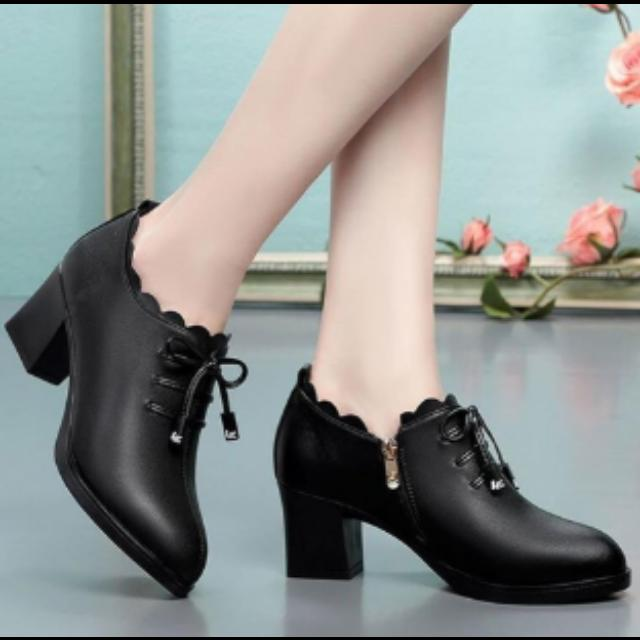shoes: (11, 208, 228, 596), (276, 377, 620, 579)
